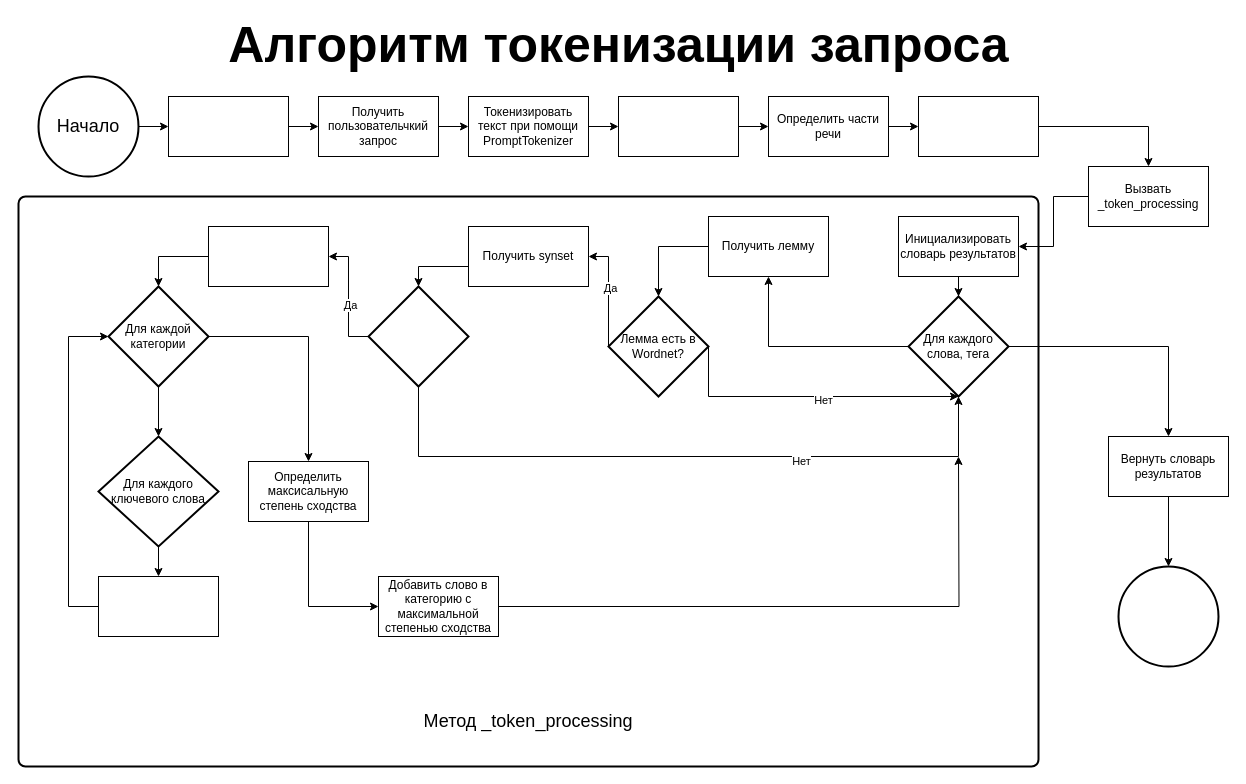
The diagram is 1246 pixels wide and 784 high, and some of its shapes have lost their labels. The shapes that lost their labels are listed below. From the top down, each one's centre as x and y in pixels, then its label:
At [228,126]: "Создать объект PromptTokenizer".
At [678,126]: "Привести к нижнему регистру и удалить стоп слова".
At [978,126]: "Привести теги к WordNet формату".
At [268,256]: "Обнулить словарь соответствия категориям".
At [418,336]: "Synset найден?".
At [158,606]: "Вычисляем Сходство Ликока-Чодороу".
At [1168,616]: "Конец".
